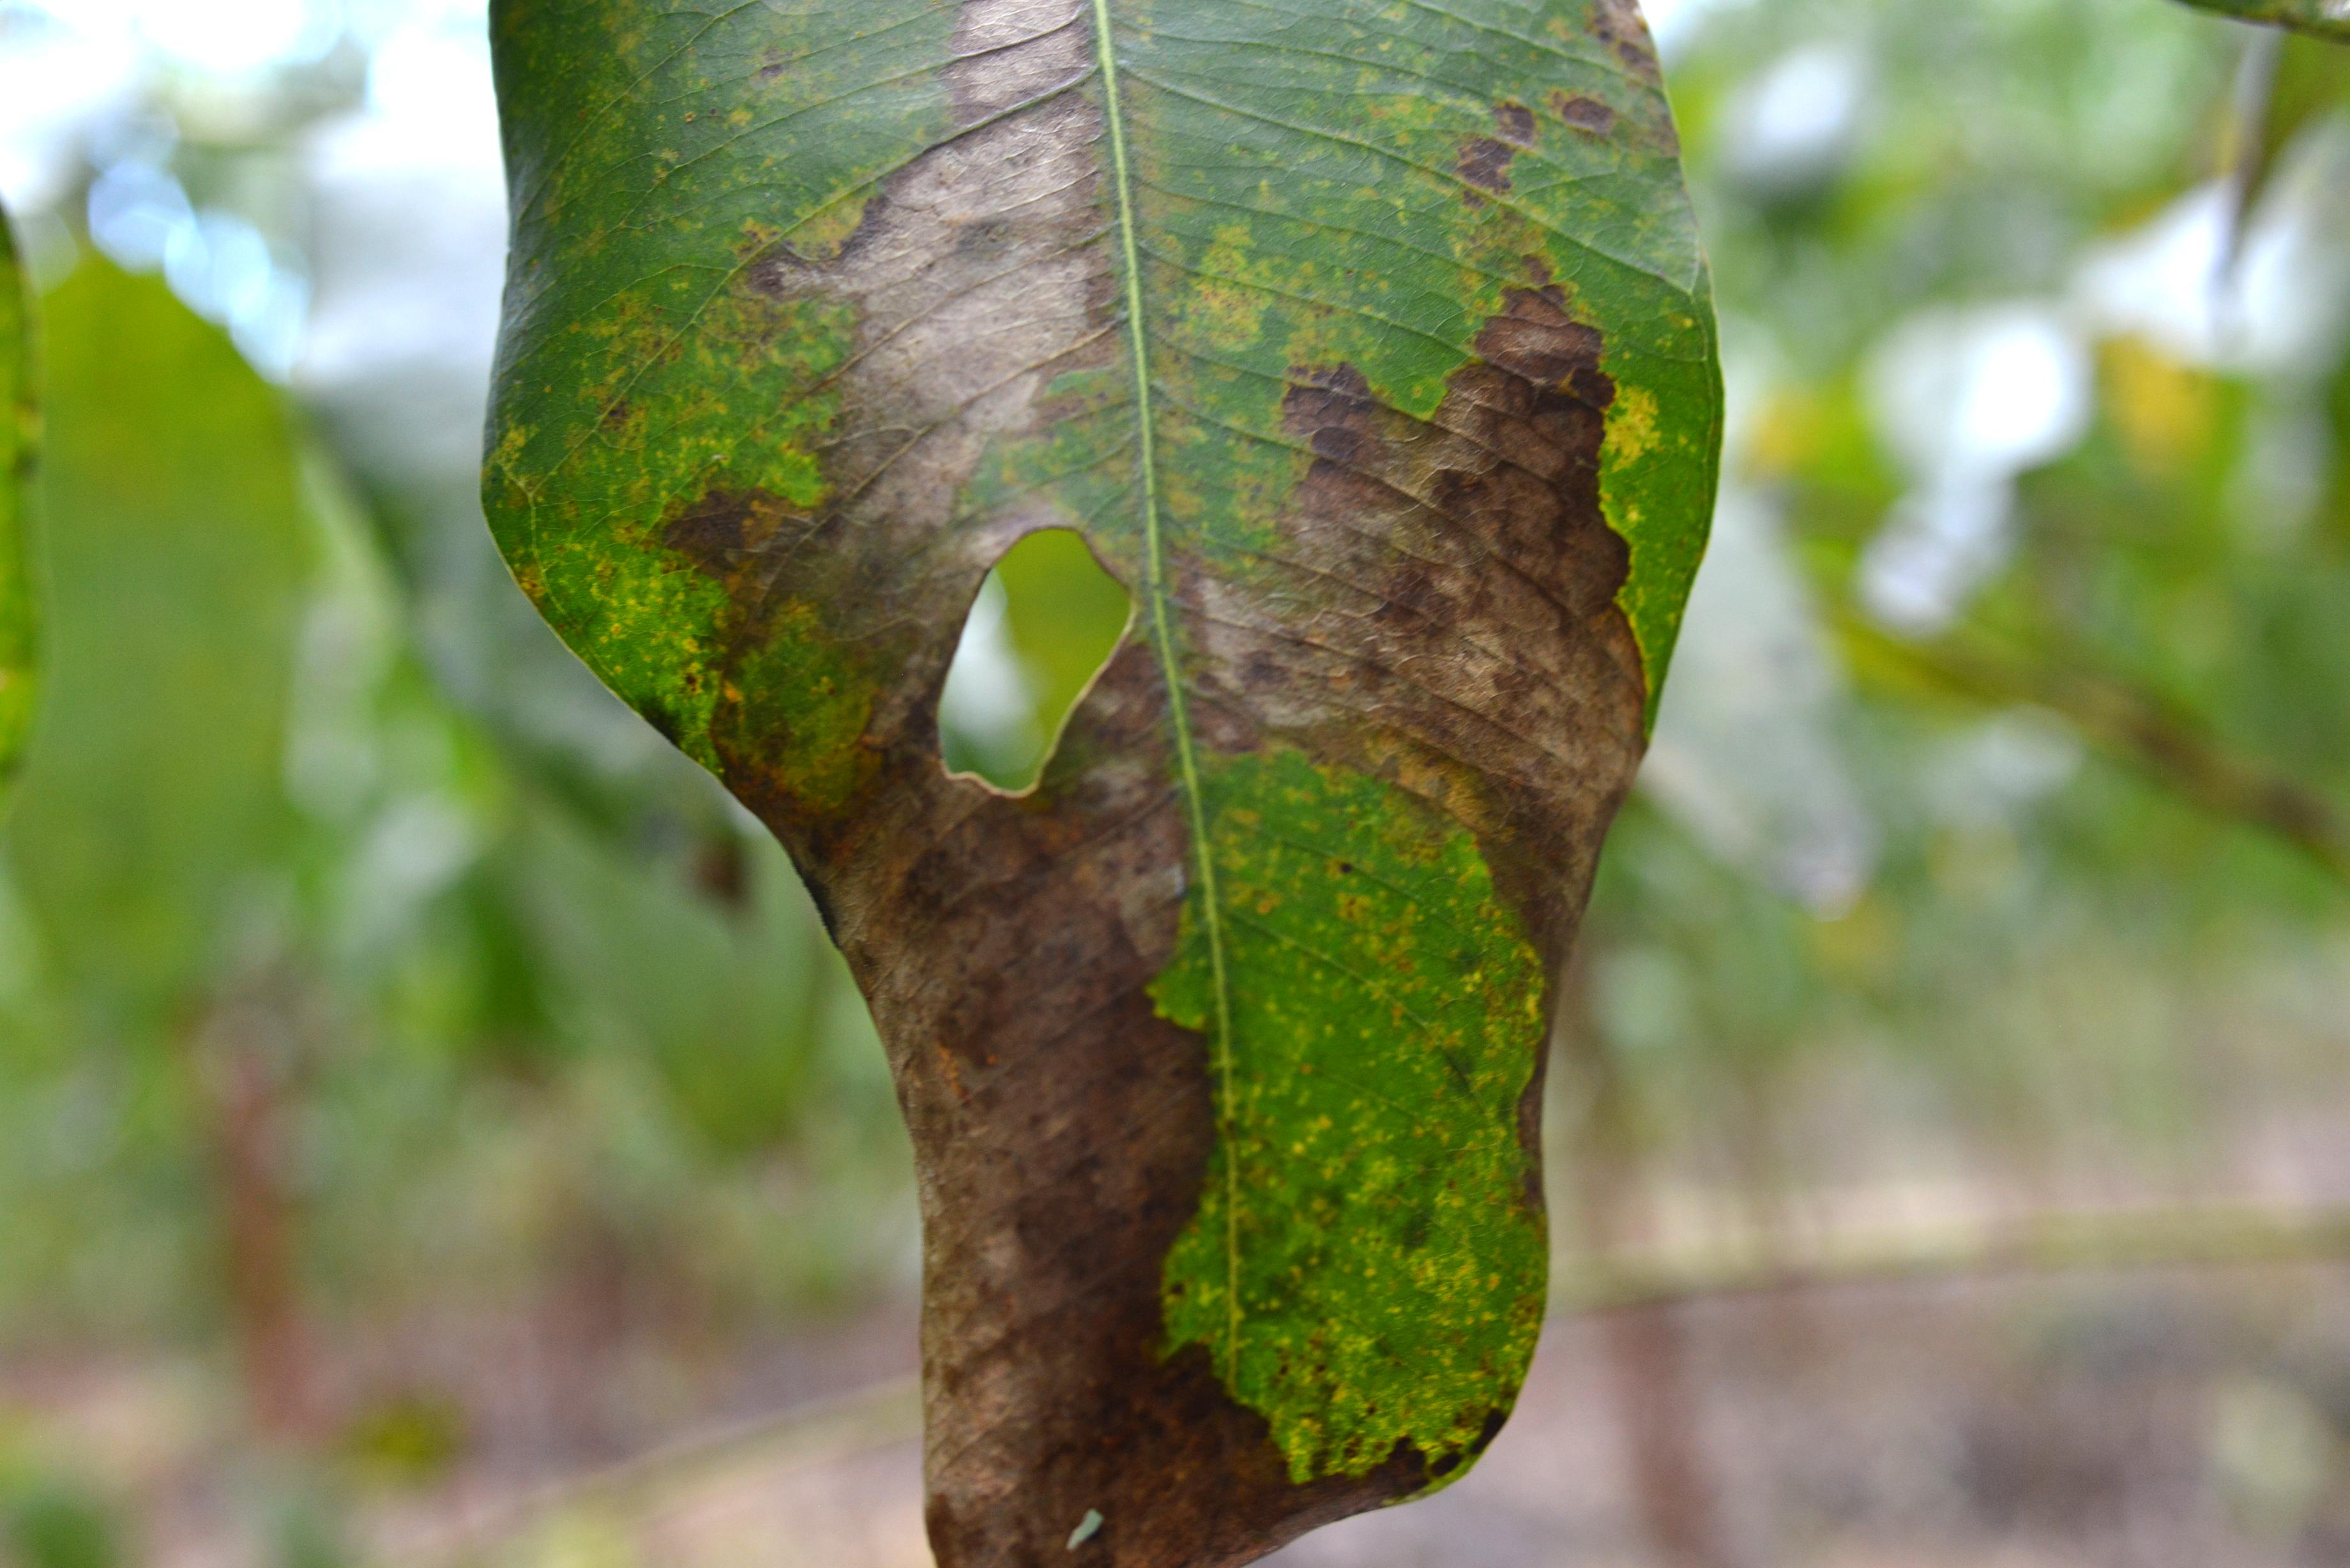Cylindrocladium: (499, 0, 1174, 1564), (1195, 215, 1648, 971), (1167, 1332, 1549, 1568)
